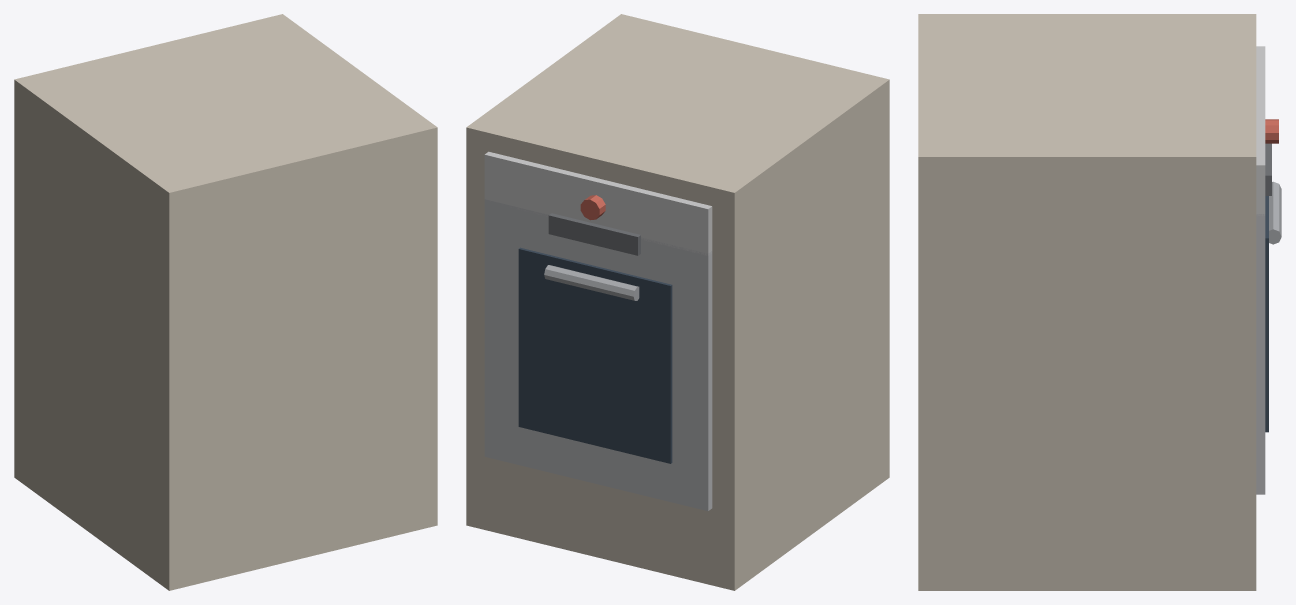
File: eld_seca_roupa.glb
3 renders of one model, left to right at view 1: azimuth 30°, elevation 25°; view 2: azimuth 150°, elevation 25°; view 3: azimuth 270°, elevation 25°, orthographic. The views are drawn at different scales.
Parts seen in each view (by area): view 1: ELD_SECA_ROUPA_v01; view 2: ELD_SECA_ROUPA_v01; view 3: ELD_SECA_ROUPA_v01.
Boxes of the visible parts, left/top/right/bottom form: ELD_SECA_ROUPA_v01: left=14, top=14, right=437, bottom=590; ELD_SECA_ROUPA_v01: left=466, top=14, right=889, bottom=590; ELD_SECA_ROUPA_v01: left=918, top=14, right=1281, bottom=590.
Bounding box in the file's own units: 0.6 × 0.85 × 0.645.
